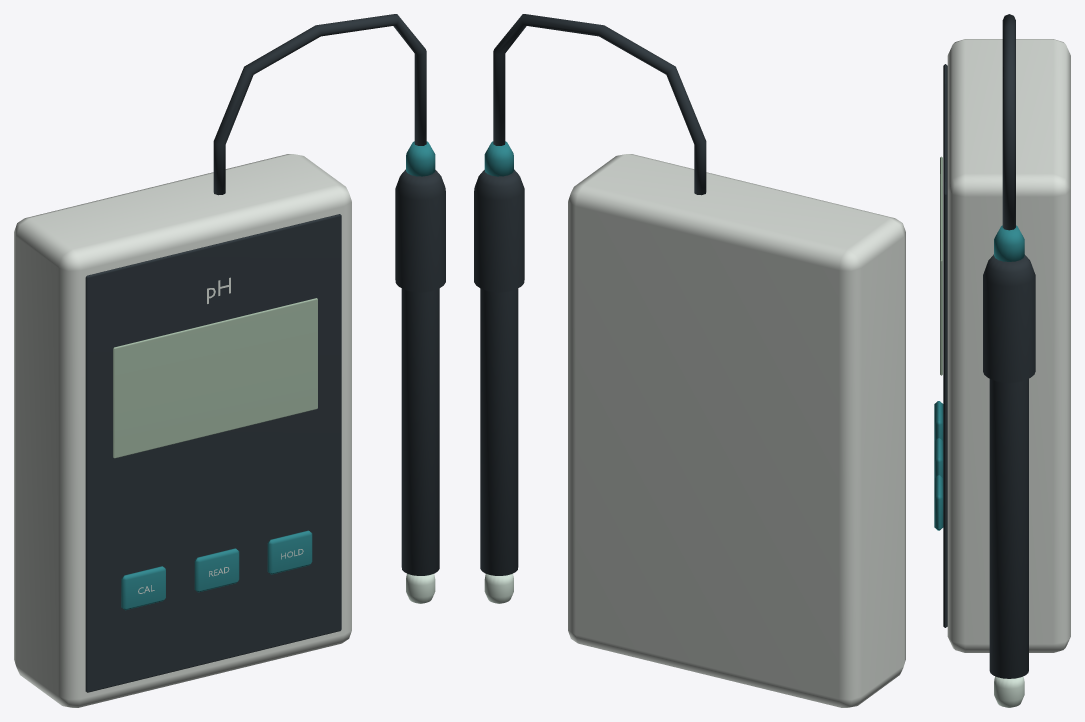
Rendered from VLAB_ph_probe.fbx.
3 views of the same model, side by side, from view 1: azimuth 30°, elevation 25°; view 2: azimuth 150°, elevation 25°; view 3: azimuth 270°, elevation 25° (orthographic). The views are drawn at different scales.
Parts seen in each view (by area): view 1: VLAB_ph_probe_Body_VIS, VLAB_ph_probe_Display_VIS, VLAB_ph_probe_Probe_VIS, VLAB_ph_probe_CableGuide_VIS, VLAB_ph_probe_Tip_VIS; view 2: VLAB_ph_probe_Body_VIS, VLAB_ph_probe_Probe_VIS, VLAB_ph_probe_CableGuide_VIS, VLAB_ph_probe_Tip_VIS; view 3: VLAB_ph_probe_Body_VIS, VLAB_ph_probe_Probe_VIS, VLAB_ph_probe_CableGuide_VIS, VLAB_ph_probe_Tip_VIS, VLAB_ph_probe_Display_VIS.
Boxes of the visible parts, x1,y1,x2,y2 form: VLAB_ph_probe_Body_VIS: (14,154,351,707); VLAB_ph_probe_Display_VIS: (113,298,317,458); VLAB_ph_probe_Probe_VIS: (395,141,445,575); VLAB_ph_probe_CableGuide_VIS: (213,14,426,195); VLAB_ph_probe_Tip_VIS: (406,573,435,603); VLAB_ph_probe_Body_VIS: (568,154,905,707); VLAB_ph_probe_Probe_VIS: (474,141,524,575); VLAB_ph_probe_CableGuide_VIS: (493,14,706,195); VLAB_ph_probe_Tip_VIS: (484,573,513,603); VLAB_ph_probe_Body_VIS: (934,39,1070,652); VLAB_ph_probe_Probe_VIS: (983,225,1035,678); VLAB_ph_probe_CableGuide_VIS: (1002,14,1015,230); VLAB_ph_probe_Tip_VIS: (994,676,1024,707); VLAB_ph_probe_Display_VIS: (940,156,942,375).
Size of the model in its own units: 0.111 by 0.1575 by 0.0311.
